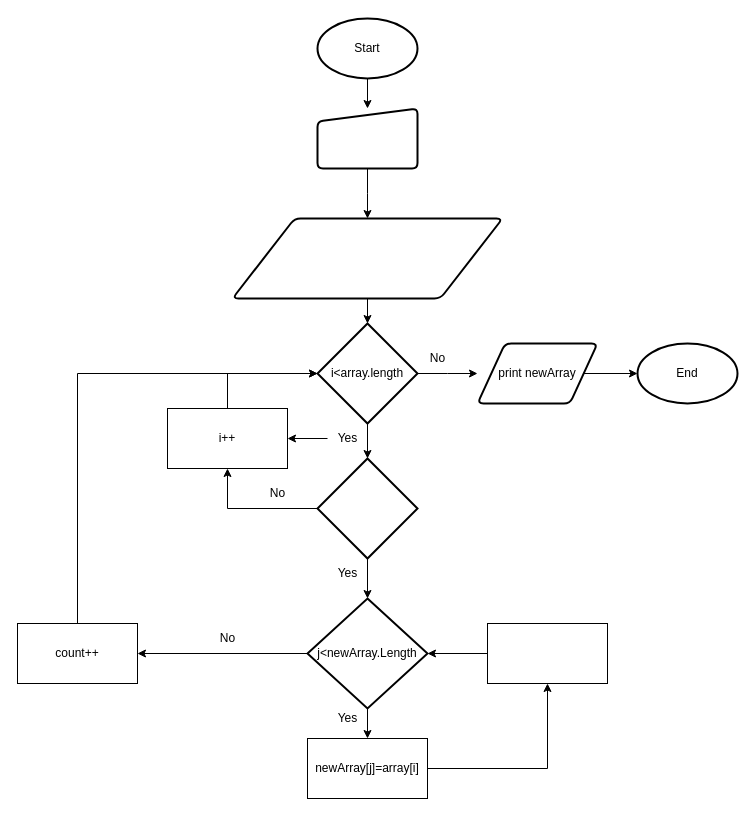
This 756x816 diagram has some shape labels left out. Here are the shapes that lost their labels. From the top down, the box of each, then its label:
(316, 107, 418, 169): input of array by user
(231, 217, 503, 299): array = console.readline newArray[count] i=0 j=0 count = 1
(316, 457, 418, 559): array[i].Length<4
(486, 622, 608, 684): j++
